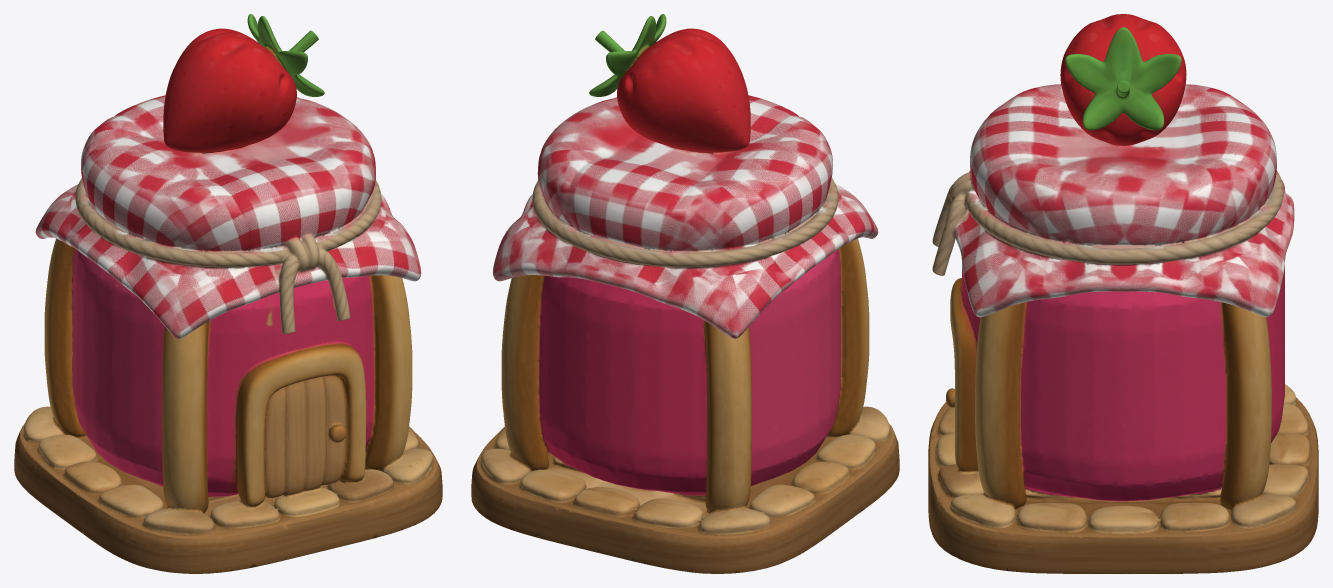
File: jam-jar-apothecary.glb
3 views of the same model, side by side, from view 1: azimuth 30°, elevation 25°; view 2: azimuth 150°, elevation 25°; view 3: azimuth 270°, elevation 25° (orthographic). The views are drawn at different scales.
Visible parts, largest first — view 1: Mesh_0; view 2: Mesh_0; view 3: Mesh_0.
Boxes of the visible parts, <box> form: Mesh_0: <box>14,14,442,573</box>; Mesh_0: <box>471,14,899,573</box>; Mesh_0: <box>928,14,1318,573</box>.
Bounding box in the file's own units: 1.39 × 1.9 × 1.39.
1 material, 1 textured.
